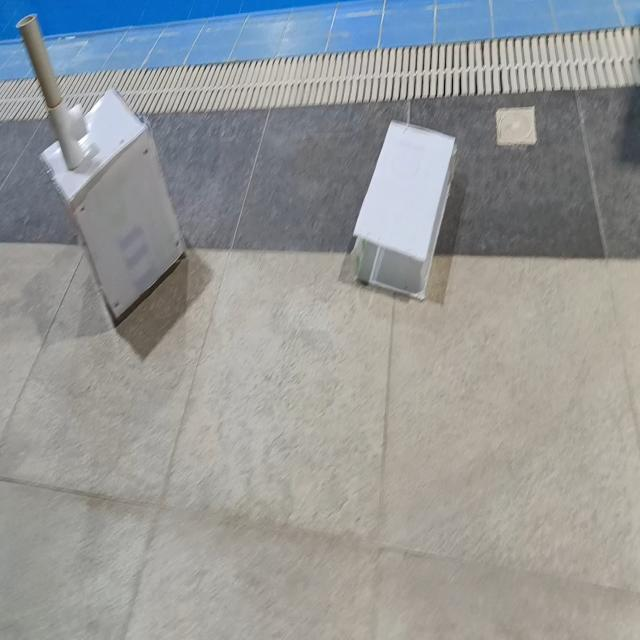Cube: (40, 86, 186, 322)
Cuboid: (351, 117, 457, 301)
